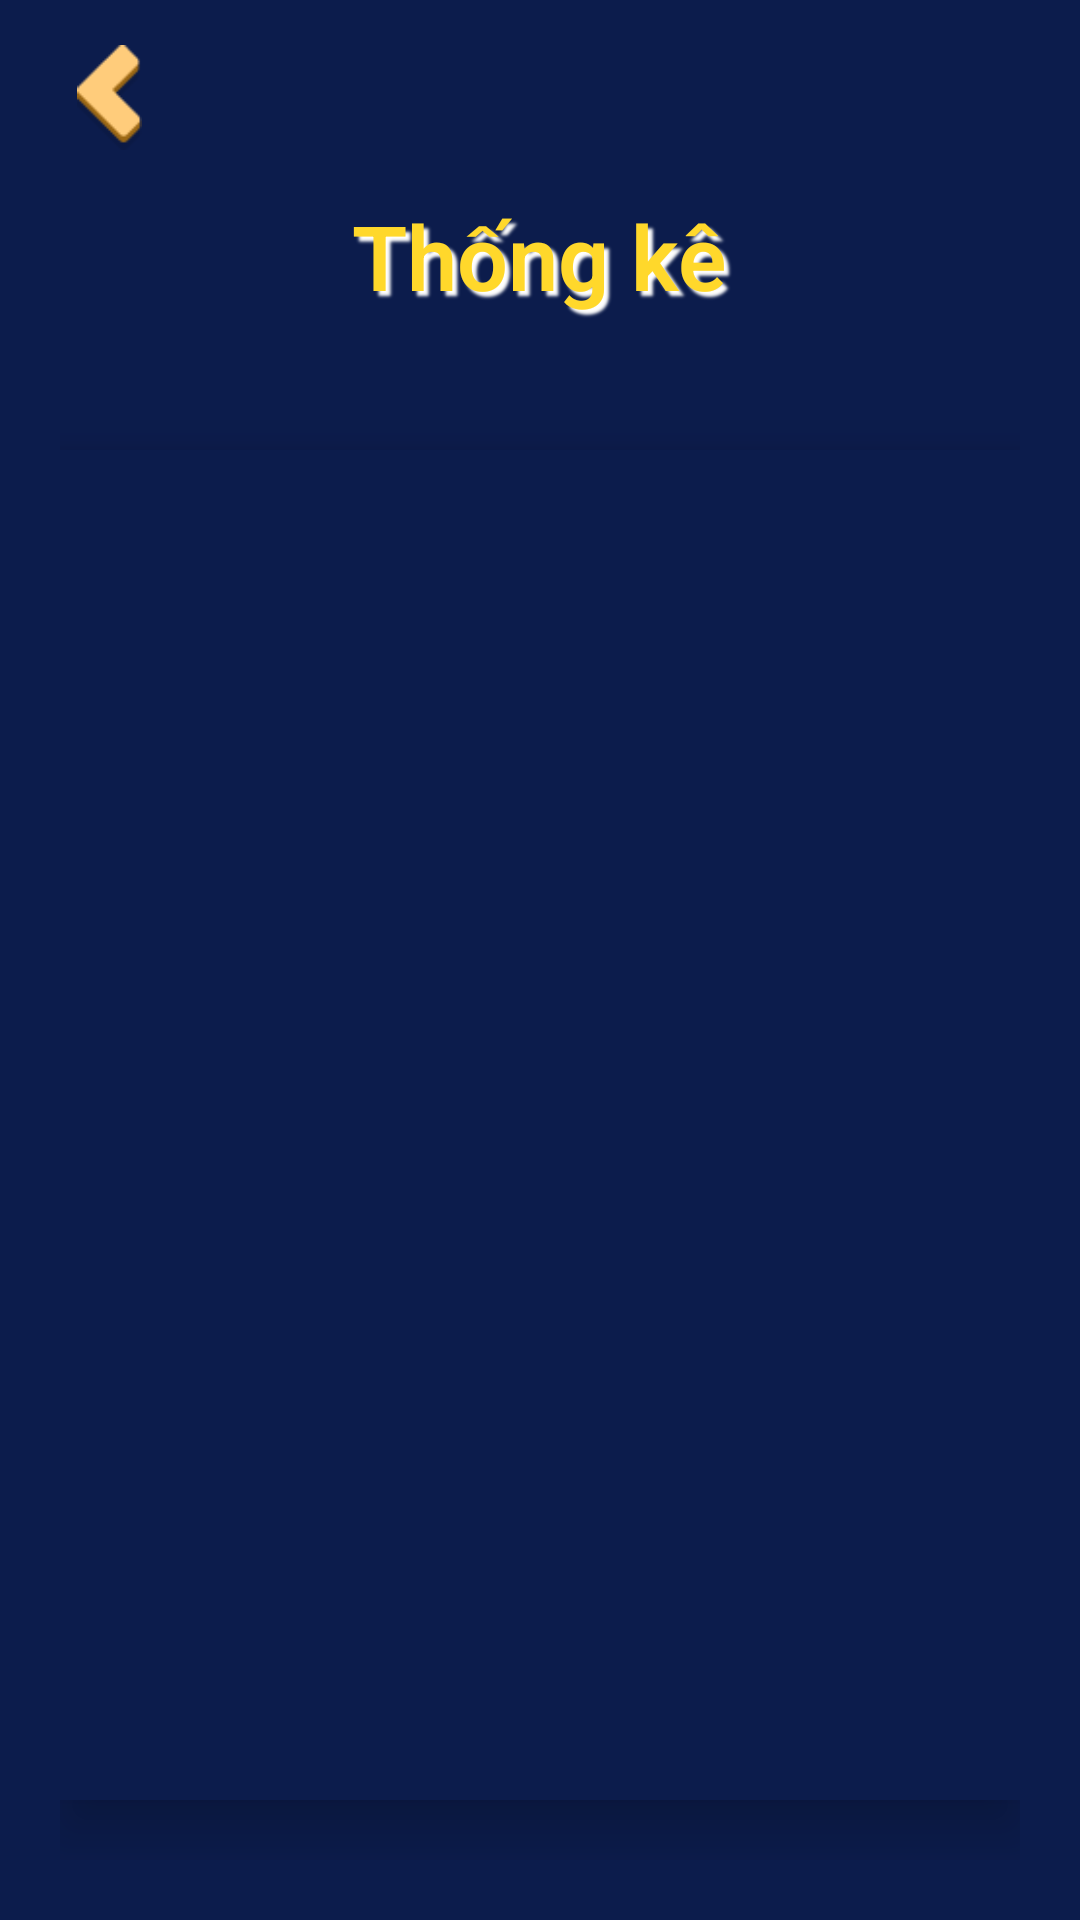

Locate icon controls on the screen. Image size 1080 x 1920, boxes as [x1, y1, x2, y2].
back: [77, 45, 142, 143]
